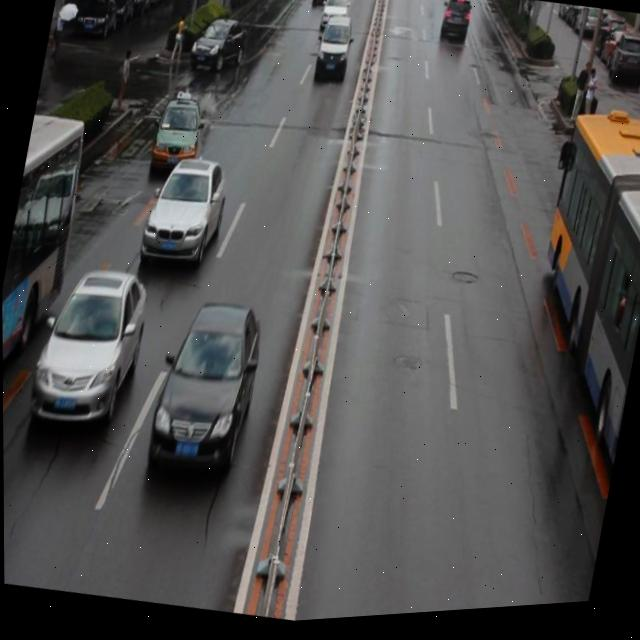car: (144, 299, 268, 491), (24, 258, 151, 442), (137, 155, 231, 280), (149, 89, 207, 179), (188, 15, 249, 79)
truck: (312, 14, 357, 89)
van: (496, 109, 640, 493), (1, 110, 93, 466)
